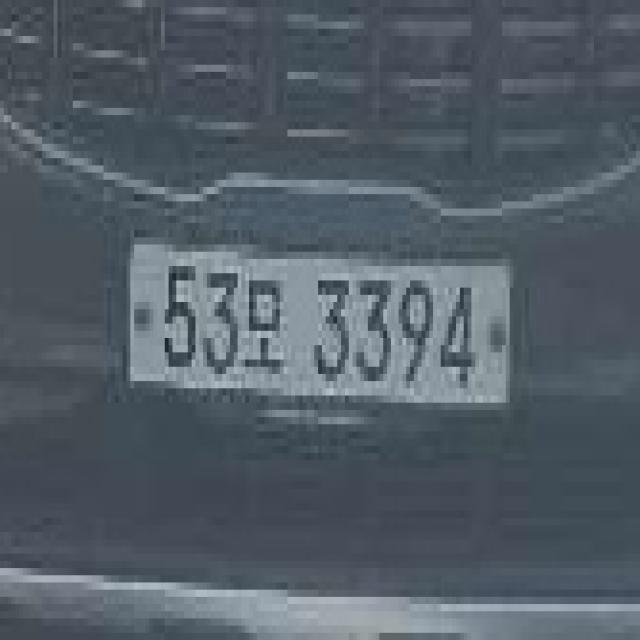3: (199, 245, 238, 381), (356, 266, 395, 388), (310, 273, 356, 374)
4: (433, 266, 479, 396)
5: (157, 244, 196, 374)
9: (398, 274, 437, 388)
license_plate: (115, 216, 517, 438)
mo: (238, 266, 288, 374)
